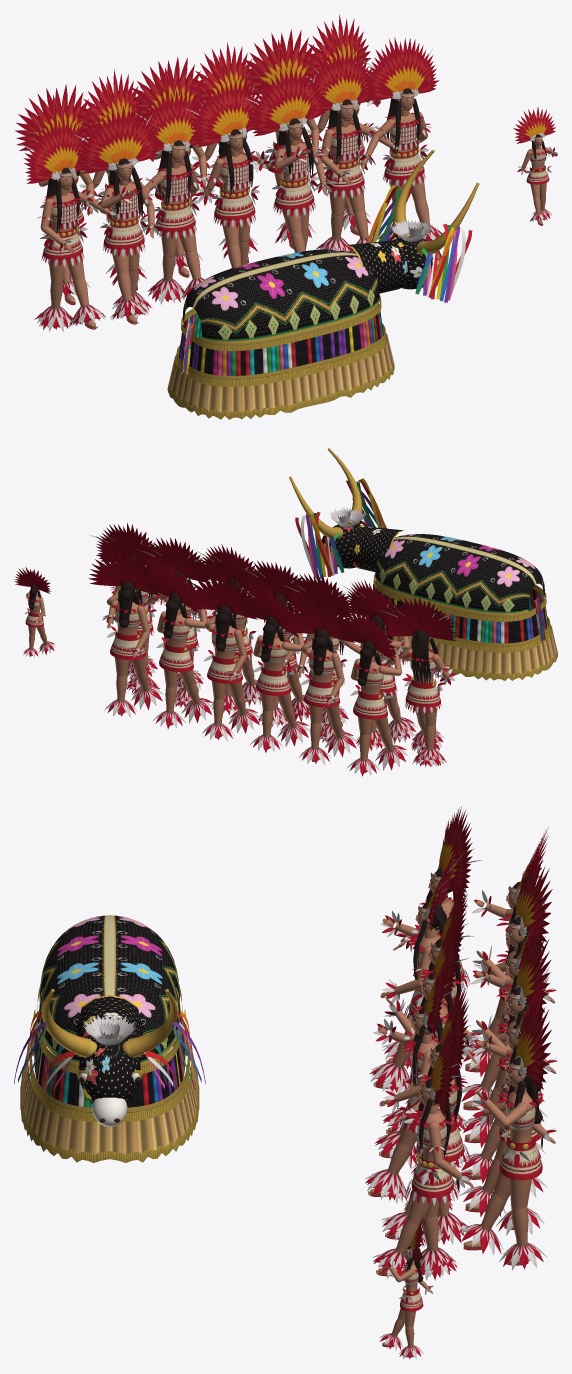
Rendered from bumba-boi.glb.
The picture shows the model from 3 angles, top to bottom: view 1: azimuth 30°, elevation 25°; view 2: azimuth 150°, elevation 25°; view 3: azimuth 270°, elevation 25°; orthographic projection. The views are drawn at different scales.
Visible parts, largest first — view 1: Boi, Dancarina_02, Dancarina_01, Dancarina_04, Dancarina_03, Dancarina_05, Dancarina_06, Dancarina_07, Dancarina_12, Dancarina_08, Dancarina_10, Dancarina_13 (+3 smaller); view 2: Boi, Dancarina_01, Dancarina_13, Dancarina_09, Dancarina_11, Dancarina_08, Dancarina_10, Dancarina_12, Dancarina_02, Dancarina_06, Dancarina_04, Dancarina_05 (+3 smaller); view 3: Boi, Dancarina_13, Dancarina_07, Dancarina_05, Dancarina_02, Dancarina_06, Dancarina_11, Dancarina_09, Dancarina_12, Dancarina_04, Dancarina_01, Dancarina_14 (+3 smaller).
Boxes of the visible parts, <box> form: Boi: <box>167,150,479,419</box>; Dancarina_02: <box>74,106,162,324</box>; Dancarina_01: <box>19,116,116,331</box>; Dancarina_04: <box>184,78,270,268</box>; Dancarina_03: <box>132,89,204,304</box>; Dancarina_05: <box>244,65,334,252</box>; Dancarina_06: <box>302,48,404,253</box>; Dancarina_07: <box>355,37,442,241</box>; Dancarina_12: <box>243,29,321,248</box>; Dancarina_08: <box>15,84,98,305</box>; Dancarina_10: <box>131,56,209,277</box>; Dancarina_13: <box>301,14,381,235</box>; Boi: <box>289,448,557,680</box>; Dancarina_01: <box>380,597,455,767</box>; Dancarina_13: <box>88,549,163,717</box>; Dancarina_09: <box>282,596,356,764</box>; Dancarina_11: <box>185,572,260,741</box>; Dancarina_08: <box>338,604,407,776</box>; Dancarina_10: <box>238,581,309,752</box>; Dancarina_12: <box>144,557,213,728</box>; Dancarina_02: <box>342,580,417,750</box>; Dancarina_06: <box>137,537,212,707</box>; Dancarina_04: <box>241,560,309,727</box>; Dancarina_05: <box>197,544,261,714</box>; Boi: <box>14,915,205,1162</box>; Dancarina_13: <box>458,994,556,1270</box>; Dancarina_07: <box>372,1019,473,1281</box>; Dancarina_05: <box>365,952,453,1210</box>; Dancarina_02: <box>369,846,464,1103</box>; Dancarina_06: <box>381,984,477,1247</box>; Dancarina_11: <box>459,925,557,1197</box>; Dancarina_09: <box>461,854,556,1121</box>; Dancarina_12: <box>460,967,549,1235</box>; Dancarina_04: <box>374,913,476,1174</box>; Dancarina_01: <box>382,806,483,1068</box>; Dancarina_14: <box>379,1215,433,1359</box>.
Bounding box in the file's own units: 0.9969 × 0.3669 × 0.7026.
33 materials, 12 textured.
